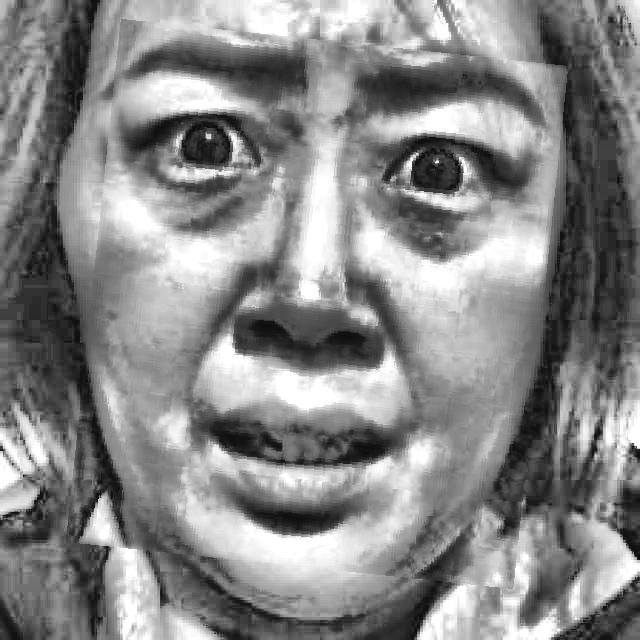fear: (79, 30, 555, 578)
